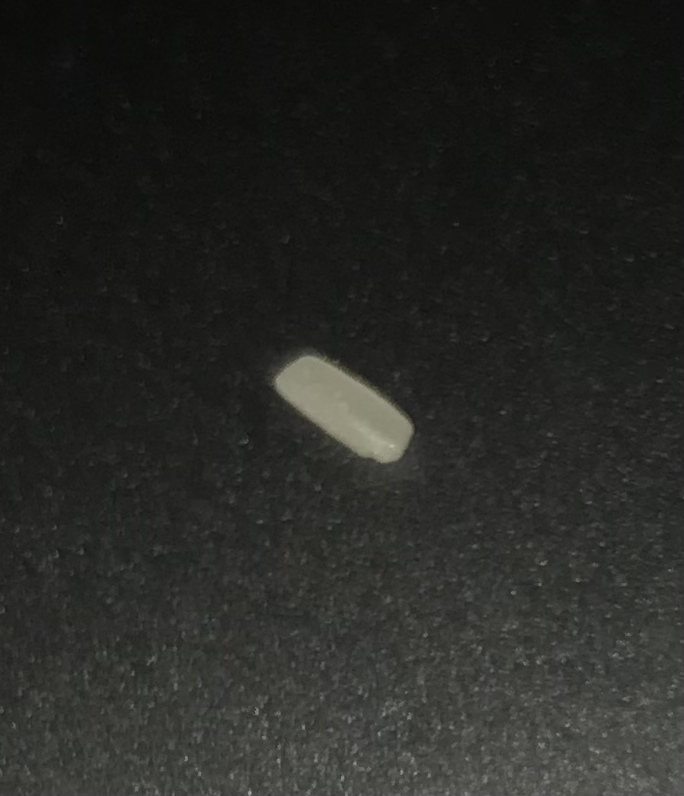Gao Tam Thom: (253, 337, 424, 480)
